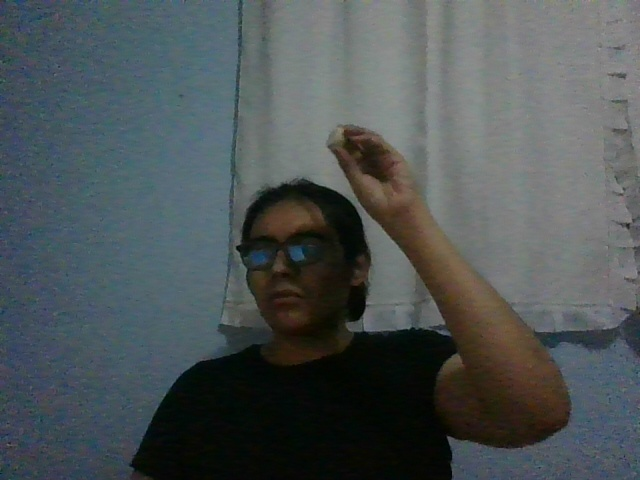goma: (326, 127, 347, 149)
